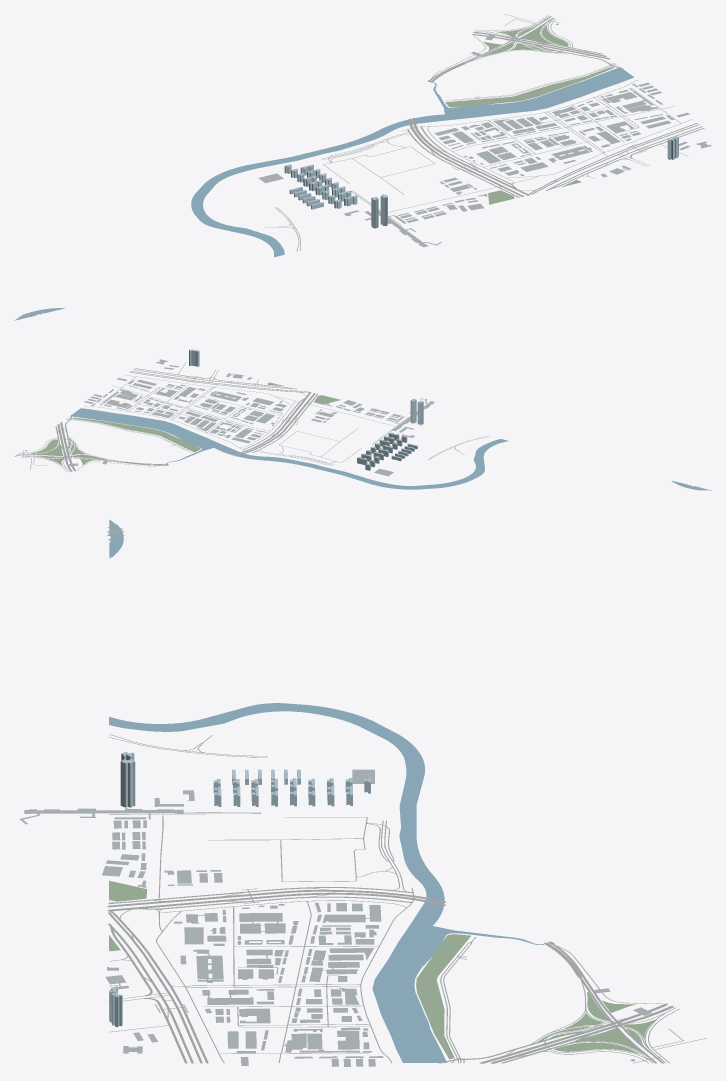
The model's file is overview-known--6_7.glb.
3 renders of one model, top to bottom at view 1: azimuth 30°, elevation 25°; view 2: azimuth 150°, elevation 25°; view 3: azimuth 270°, elevation 25°, orthographic. The views are drawn at different scales.
Bounding box in the file's own units: 3505 × 133 × 1859.
